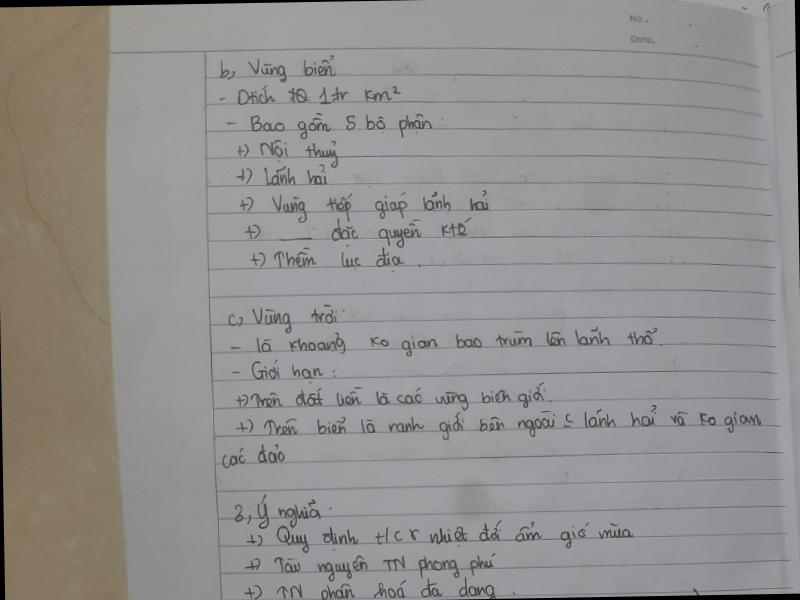text: (233, 403, 764, 446), (228, 324, 662, 362), (246, 516, 636, 557), (234, 379, 552, 417), (236, 186, 493, 228), (245, 550, 498, 586), (224, 105, 447, 143), (240, 573, 500, 600), (218, 80, 407, 110), (248, 243, 406, 278), (329, 215, 475, 252), (216, 51, 339, 87), (225, 300, 340, 338), (234, 134, 344, 173), (232, 490, 324, 532), (230, 356, 326, 388), (234, 162, 332, 188), (220, 440, 288, 471), (630, 30, 656, 47), (627, 11, 643, 26)
